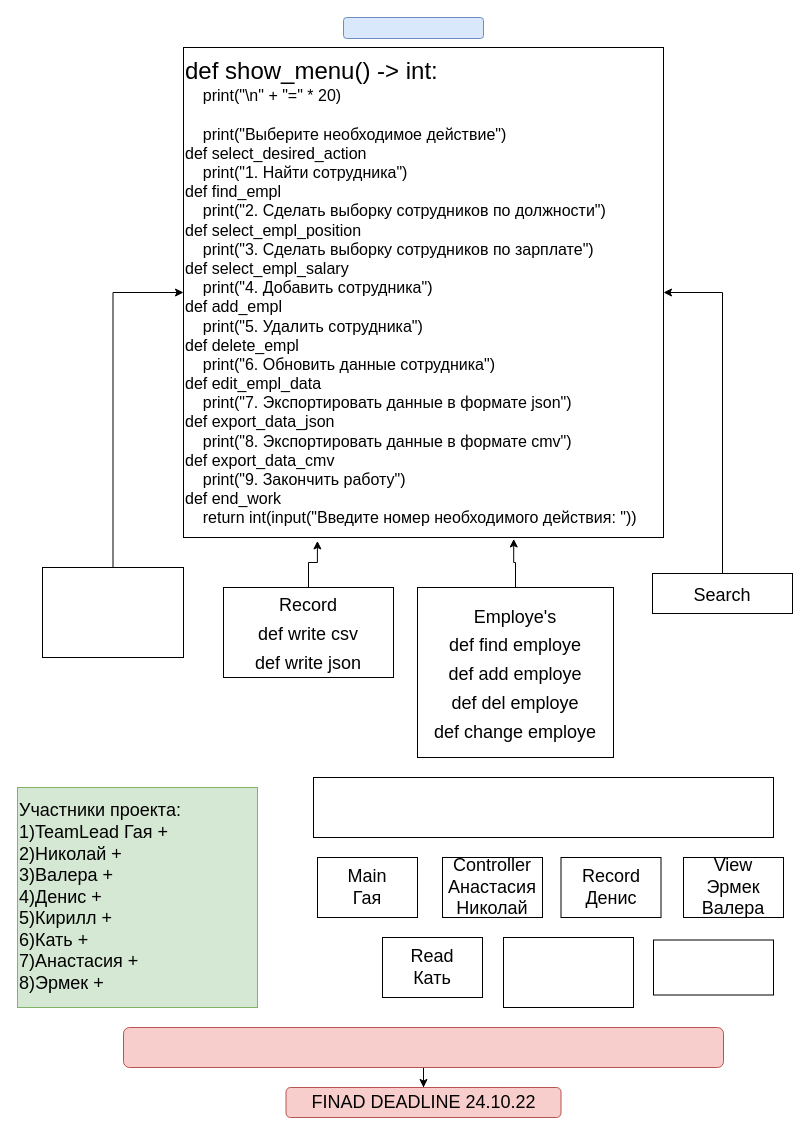
The diagram is 810 pixels wide and 1135 high, and some of its shapes have lost their labels. The centre of each missing label's shape, as x and y in pixels:
"Additional block Николай Кирилл" belongs at pixel 568 972.
"DEADLINE 23.10.22" belongs at pixel 423 1047.
"home_work_8" belongs at pixel 413 27.
"Read def Read csv def Read json" belongs at pixel 113 612.
"Readme" belongs at pixel 713 967.
"Модули" belongs at pixel 543 807.
